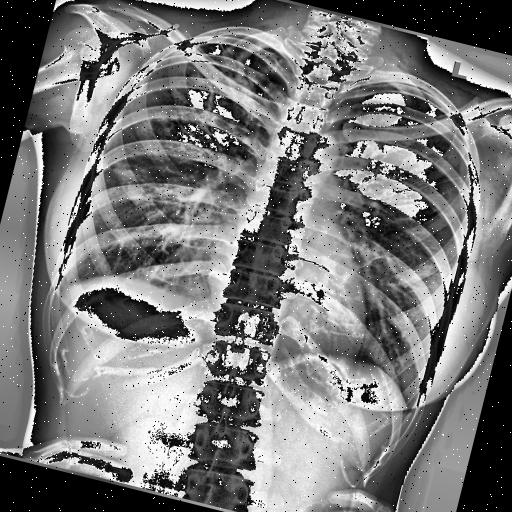13- Pulmonary fibrosis: (157, 19, 308, 166), (152, 31, 288, 154), (166, 34, 274, 152), (380, 150, 474, 214), (108, 118, 149, 150), (428, 166, 470, 196)
6- Infiltration: (157, 19, 308, 166), (152, 31, 288, 154), (166, 34, 274, 152), (109, 154, 183, 202)
7- Lung Opacity: (152, 31, 288, 154), (91, 140, 163, 205)
